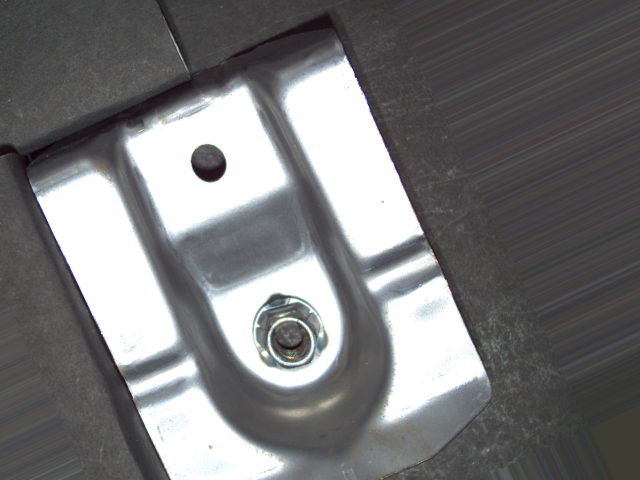good: (248, 290, 331, 377)
